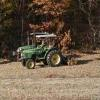Tractor: (10, 26, 73, 75)
